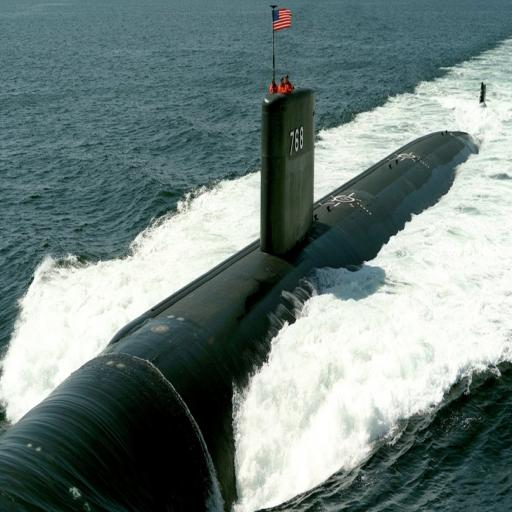submarine: (3, 3, 492, 510)
